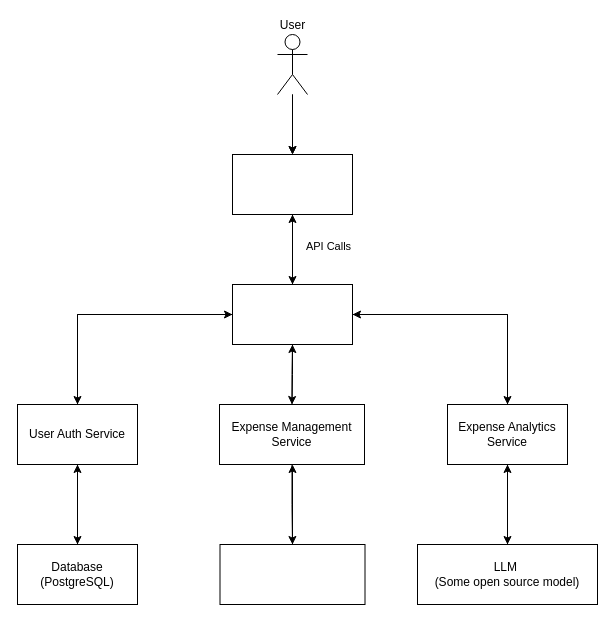
This 615x622 diagram has some shape labels left out. The shapes that lost their labels are listed below. From the top down, each one's box as (x1, y1, x2, y2) in pixels, then its label:
(232, 154, 352, 214): Mobile App (Flutter - MVC)
(232, 284, 352, 344): API Gateway
(219, 544, 365, 604): OCR Service (Tesseract - Open Source)
